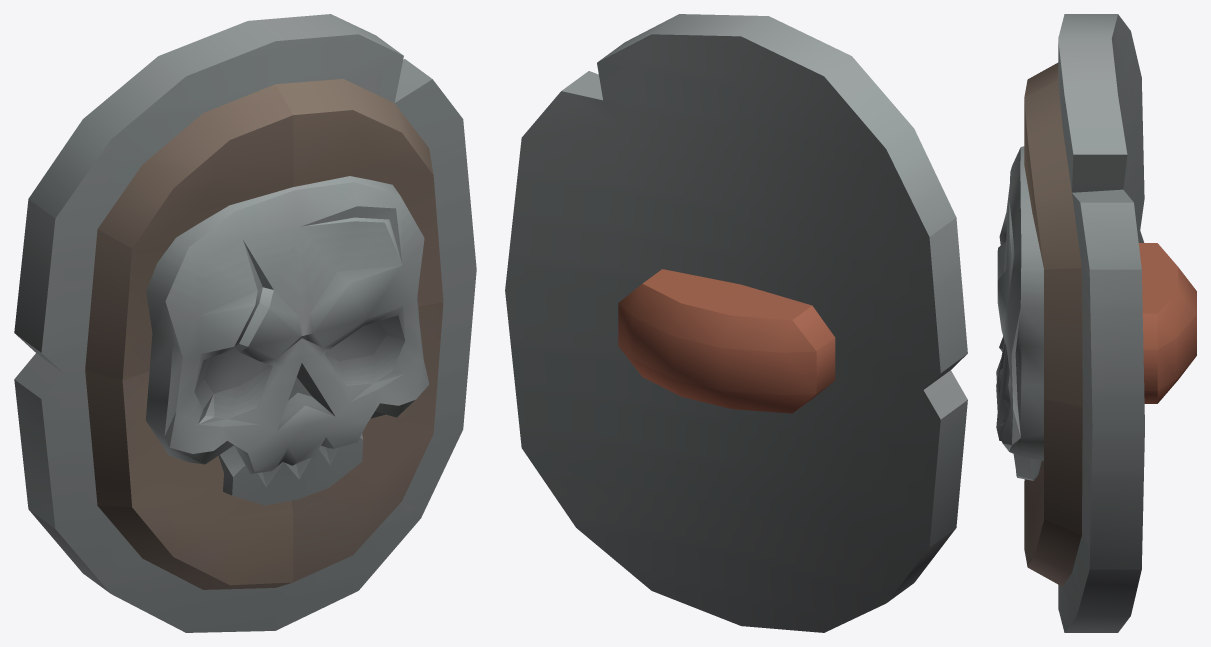
Rendered from skeleton_shield_large_a.glb.
3 renders of one model, left to right at view 1: azimuth 30°, elevation 25°; view 2: azimuth 150°, elevation 25°; view 3: azimuth 270°, elevation 25°, orthographic. The views are drawn at different scales.
Parts seen in each view (by area): view 1: Skeleton_Shield_Large_A; view 2: Skeleton_Shield_Large_A; view 3: Skeleton_Shield_Large_A.
Part boxes in pixels (bbox=[...]): Skeleton_Shield_Large_A: bbox=[14, 14, 476, 632]; Skeleton_Shield_Large_A: bbox=[505, 14, 967, 632]; Skeleton_Shield_Large_A: bbox=[996, 14, 1196, 632].
Size of the model in its own units: 0.8771 by 1.13 by 0.3625.
Materials: 1 (1 with a texture image).
